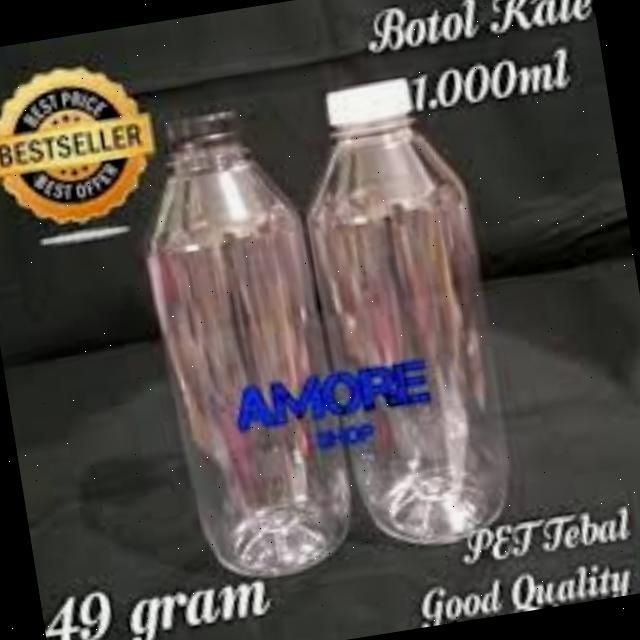trash: (118, 94, 366, 595), (283, 66, 528, 567)
